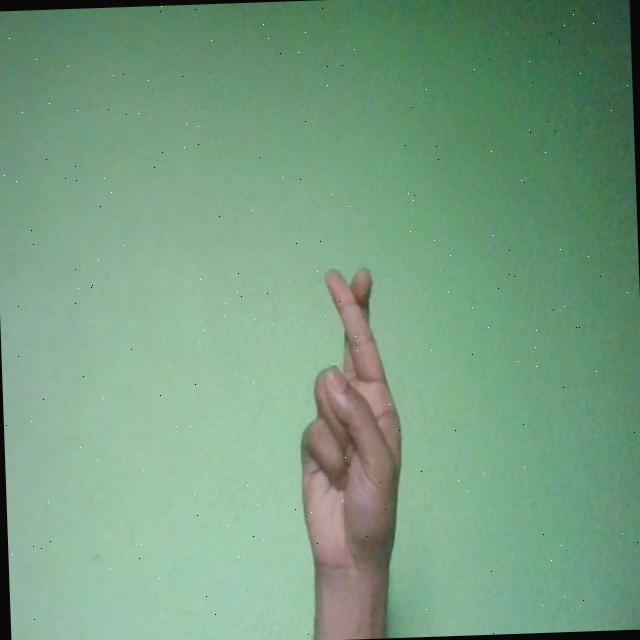Ok: (294, 266, 404, 580)
